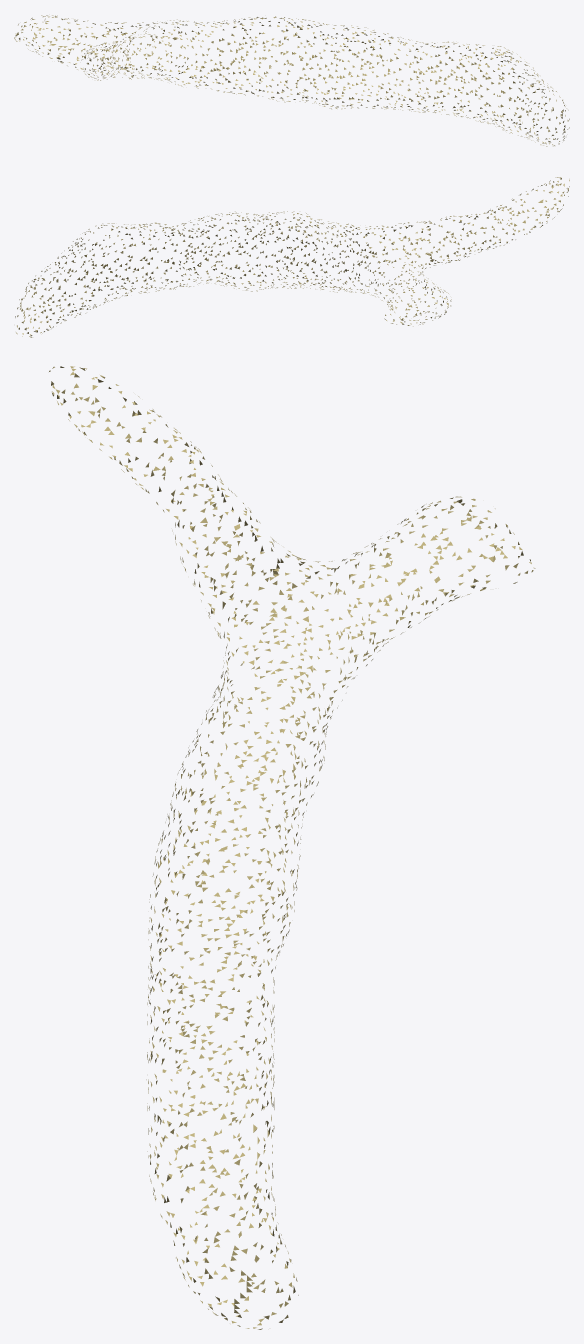
File: morph_008.glb
The picture shows the model from 3 angles, top to bottom: view 1: azimuth 30°, elevation 25°; view 2: azimuth 150°, elevation 25°; view 3: azimuth 270°, elevation 25°; orthographic projection. The views are drawn at different scales.
Size of the model in its own units: 135 by 62.12 by 56.12.
